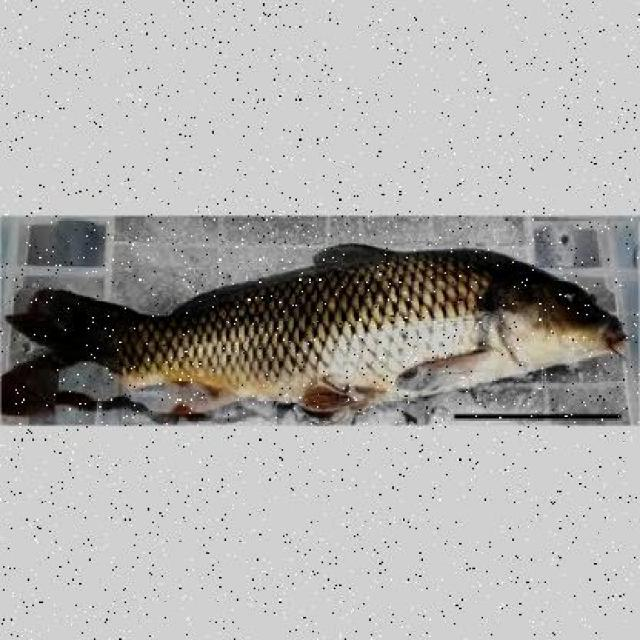ikan-mas: (22, 240, 624, 400)
